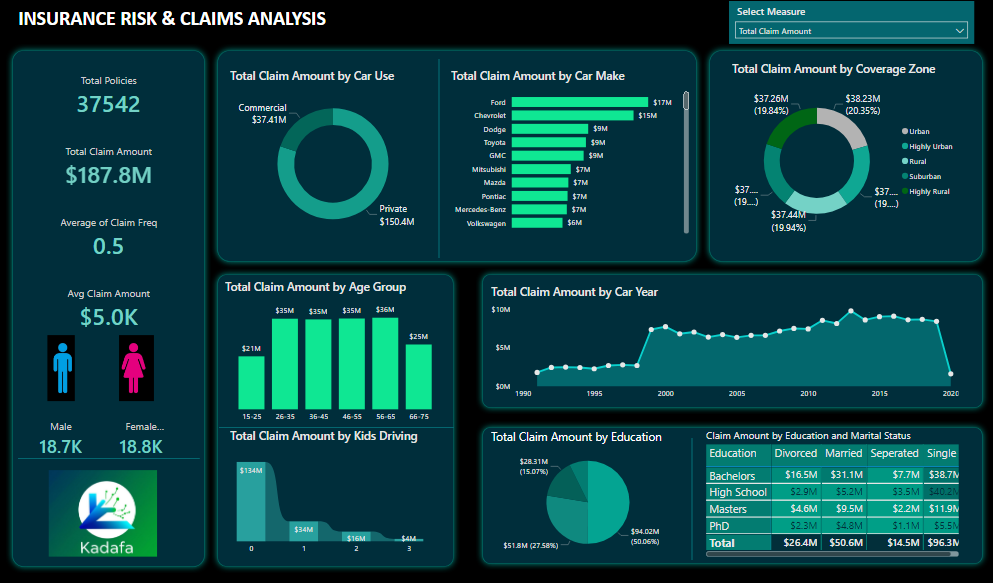

The dashboard page shown, as its layout file describes it:
{"tool":"powerbi","page":{"name":"Page 1","canvas":[1600,950],"ordinal":0},"visuals":[{"type":"shape","box":[11.2,77.1,329.3,849.8],"z":0},{"type":"cardVisual","fields":{"Data":["insurance_data_car.Total Policies","insurance_data_car.Total Claim Amount","Avg(insurance_data_car.Claim Freq)","insurance_data_car.Avg Claim Amount"]},"box":[41.8,101.2,269.9,459.4],"z":1000},{"type":"cardVisual","fields":{"Data":["insurance_data_car.Male Count","insurance_data_car.Female Count"]},"box":[33.7,655.4,260.2,109.2],"z":2000},{"type":"image","box":[41.8,539.8,115.7,115.7],"z":3000},{"type":"image","box":[163.9,539.8,114.1,115.7],"z":4000},{"type":"slicer","fields":{"Values":["Select Measure.Select Measure"]},"box":[1172.7,8,393.6,69.1],"z":5000},{"type":"shape","box":[340.6,77.1,790.4,359.8],"z":6000},{"type":"donutChart","fields":{"Y":["insurance_data_car.Total Claim Amount"],"Category":["insurance_data_car.Car Use"]},"box":[366.3,115.7,340.6,282.7],"z":7000},{"type":"clusteredBarChart","fields":{"Y":["insurance_data_car.Total Claim Amount"],"Category":["insurance_data_car.Car Make"]},"box":[721.3,115.7,392,271.5],"z":8000},{"type":"shape","box":[1130.9,77.1,459.4,359.8],"z":9000},{"type":"donutChart","fields":{"Y":["insurance_data_car.Total Claim Amount"],"Category":["insurance_data_car.Coverage Zone"]},"box":[1172.7,104.4,374.3,295.6],"z":10000},{"type":"shape","box":[340.6,436.9,400,490],"z":11000},{"type":"columnChart","fields":{"Y":["insurance_data_car.Total Claim Amount"],"Category":["insurance_data_car.Age Group"]},"box":[358.2,454.6,364.7,239.4],"z":12000},{"type":"ribbonChart","fields":{"Y":["insurance_data_car.Total Claim Amount"],"Category":["insurance_data_car.Kids Driving"]},"box":[366.3,694,330.9,212],"z":13000},{"type":"shape","box":[766.3,436.9,824.1,234.5],"z":14000},{"type":"areaChart","fields":{"Y":["insurance_data_car.Total Claim Amount"],"Category":["insurance_data_car.Car Year"]},"box":[785.5,462.7,761.4,194.4],"z":15000},{"type":"shape","box":[766.3,682.7,824.1,239.4],"z":16000},{"type":"pieChart","fields":{"Y":["insurance_data_car.Total Claim Amount"],"Category":["insurance_data_car.Education"]},"box":[785.5,695.6,321.3,210.4],"z":17000},{"type":"pivotTable","title":"Claim Amount by Education and Marital Status","fields":{"Rows":["insurance_data_car.Education"],"Columns":["insurance_data_car.Marital Status"],"Values":["insurance_data_car.Total Claim Amount"]},"box":[1130.9,694,416.1,212],"z":18000},{"type":"shape","box":[682.7,101.2,48.2,319.7],"z":19000},{"type":"shape","box":[1089.2,710,48.2,196],"z":20000},{"type":"shape","box":[353.4,671.5,377.5,43.4],"z":21000},{"type":"shape","box":[30.5,721.3,292.4,43.4],"z":22000},{"type":"textbox","box":[12.9,11.2,530.1,57.8],"z":24000},{"type":"image","box":[73.9,756.6,186.3,149.4],"z":24001}]}

Visuals, with their boxes in screenshot pixels (x1, y1, x2, y2), scaled from the page's 1600x950 canvas onto the 993x583 screenshot:
shape: [left=7, top=47, right=211, bottom=569]
cardVisual - insurance_data_car.Total Policies x insurance_data_car.Total Claim Amount: [left=26, top=62, right=193, bottom=344]
cardVisual - insurance_data_car.Male Count x insurance_data_car.Female Count: [left=21, top=402, right=182, bottom=469]
image: [left=26, top=331, right=98, bottom=402]
image: [left=102, top=331, right=173, bottom=402]
slicer - Select Measure.Select Measure: [left=728, top=5, right=972, bottom=47]
shape: [left=211, top=47, right=702, bottom=268]
donutChart - insurance_data_car.Total Claim Amount x insurance_data_car.Car Use: [left=227, top=71, right=439, bottom=244]
clusteredBarChart - insurance_data_car.Total Claim Amount x insurance_data_car.Car Make: [left=448, top=71, right=691, bottom=238]
shape: [left=702, top=47, right=987, bottom=268]
donutChart - insurance_data_car.Total Claim Amount x insurance_data_car.Coverage Zone: [left=728, top=64, right=960, bottom=245]
shape: [left=211, top=268, right=460, bottom=569]
columnChart - insurance_data_car.Total Claim Amount x insurance_data_car.Age Group: [left=222, top=279, right=449, bottom=426]
ribbonChart - insurance_data_car.Total Claim Amount x insurance_data_car.Kids Driving: [left=227, top=426, right=433, bottom=556]
shape: [left=476, top=268, right=987, bottom=412]
areaChart - insurance_data_car.Total Claim Amount x insurance_data_car.Car Year: [left=488, top=284, right=960, bottom=403]
shape: [left=476, top=419, right=987, bottom=566]
pieChart - insurance_data_car.Total Claim Amount x insurance_data_car.Education: [left=488, top=427, right=687, bottom=556]
"Claim Amount by Education and Marital Status" pivotTable: [left=702, top=426, right=960, bottom=556]
shape: [left=424, top=62, right=454, bottom=258]
shape: [left=676, top=436, right=706, bottom=556]
shape: [left=219, top=412, right=454, bottom=439]
shape: [left=19, top=443, right=200, bottom=469]
textbox: [left=8, top=7, right=337, bottom=42]
image: [left=46, top=464, right=161, bottom=556]
